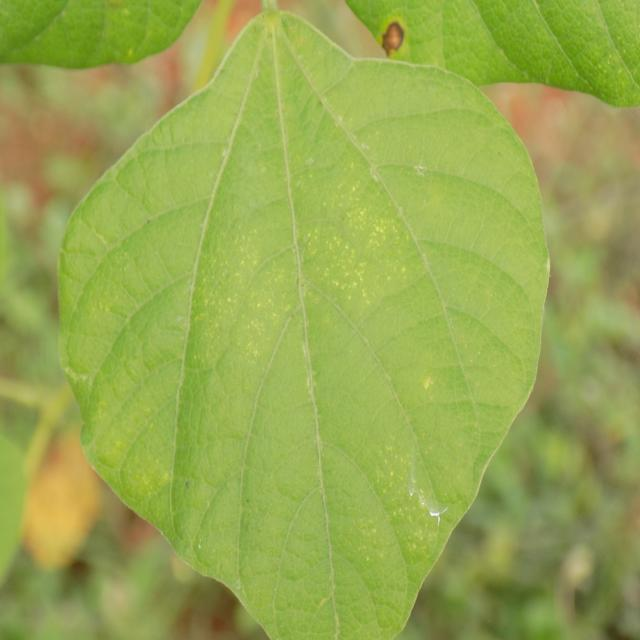Dolicos bean_healthy: (58, 8, 551, 640)
